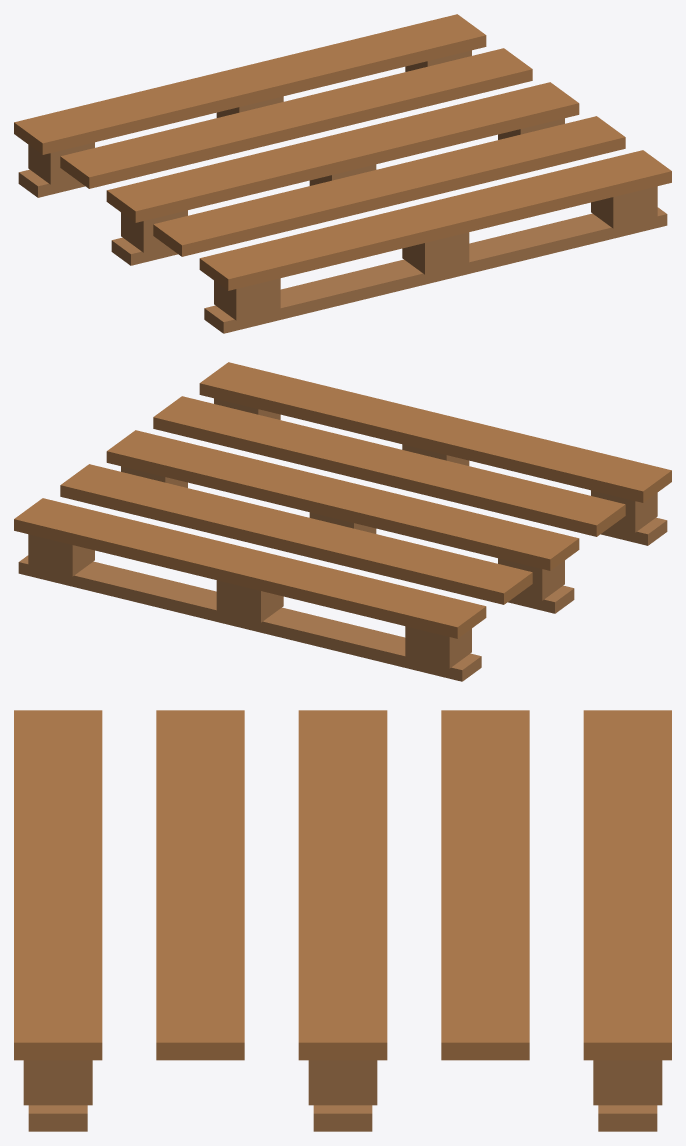
The model's file is wooden_pallet.glb.
The picture shows the model from 3 angles, top to bottom: view 1: azimuth 30°, elevation 25°; view 2: azimuth 150°, elevation 25°; view 3: azimuth 270°, elevation 25°; orthographic projection. The views are drawn at different scales.
Visible parts, largest first — view 1: _MeshInstance3D_108, DeckBoard, _MeshInstance3D_109, _MeshInstance3D_107, _MeshInstance3D_110, _MeshInstance3D_103, _MeshInstance3D_104, _MeshInstance3D_105, _MeshInstance3D_106, Block, _MeshInstance3D_100, Runner (+1 smaller); view 2: _MeshInstance3D_108, _MeshInstance3D_110, _MeshInstance3D_107, _MeshInstance3D_109, DeckBoard, Runner, Block, _MeshInstance3D_97, _MeshInstance3D_98, _MeshInstance3D_104, _MeshInstance3D_100, _MeshInstance3D_99 (+1 smaller); view 3: _MeshInstance3D_108, _MeshInstance3D_107, _MeshInstance3D_109, DeckBoard, _MeshInstance3D_110, _MeshInstance3D_98, _MeshInstance3D_106, _MeshInstance3D_102, Runner, _MeshInstance3D_99, _MeshInstance3D_103.
Boxes of the visible parts, box(x1,y1,x2,y2) form: _MeshInstance3D_108: box(106, 82, 579, 222); DeckBoard: box(14, 14, 486, 154); _MeshInstance3D_109: box(153, 116, 625, 256); _MeshInstance3D_107: box(60, 48, 532, 188); _MeshInstance3D_110: box(199, 150, 671, 290); _MeshInstance3D_103: box(204, 207, 667, 333); _MeshInstance3D_104: box(214, 278, 280, 320); _MeshInstance3D_105: box(402, 232, 469, 274); _MeshInstance3D_106: box(591, 186, 657, 228); Block: box(28, 142, 94, 184); _MeshInstance3D_100: box(121, 210, 187, 252); Runner: box(18, 169, 84, 197); _MeshInstance3D_108: box(106, 430, 579, 570); _MeshInstance3D_110: box(199, 362, 671, 502); _MeshInstance3D_107: box(60, 464, 532, 604); _MeshInstance3D_109: box(153, 396, 625, 536); DeckBoard: box(14, 498, 486, 638); Runner: box(18, 555, 481, 681); Block: box(405, 626, 471, 668); _MeshInstance3D_97: box(216, 580, 283, 622); _MeshInstance3D_98: box(28, 534, 94, 576); _MeshInstance3D_104: box(591, 490, 657, 532); _MeshInstance3D_100: box(498, 558, 564, 600); _MeshInstance3D_99: box(508, 585, 574, 613); _MeshInstance3D_108: box(298, 710, 387, 1060); _MeshInstance3D_107: box(441, 710, 529, 1060); _MeshInstance3D_109: box(156, 710, 244, 1060); DeckBoard: box(583, 710, 671, 1060); _MeshInstance3D_110: box(14, 710, 102, 1060); _MeshInstance3D_98: box(593, 1060, 662, 1105); _MeshInstance3D_106: box(23, 1060, 92, 1105); _MeshInstance3D_102: box(308, 1060, 377, 1105); Runner: box(598, 1105, 657, 1131); _MeshInstance3D_99: box(313, 1105, 372, 1131); _MeshInstance3D_103: box(28, 1105, 87, 1131).
Bounding box in the file's own units: 1.6 × 0.2 × 1.34.
